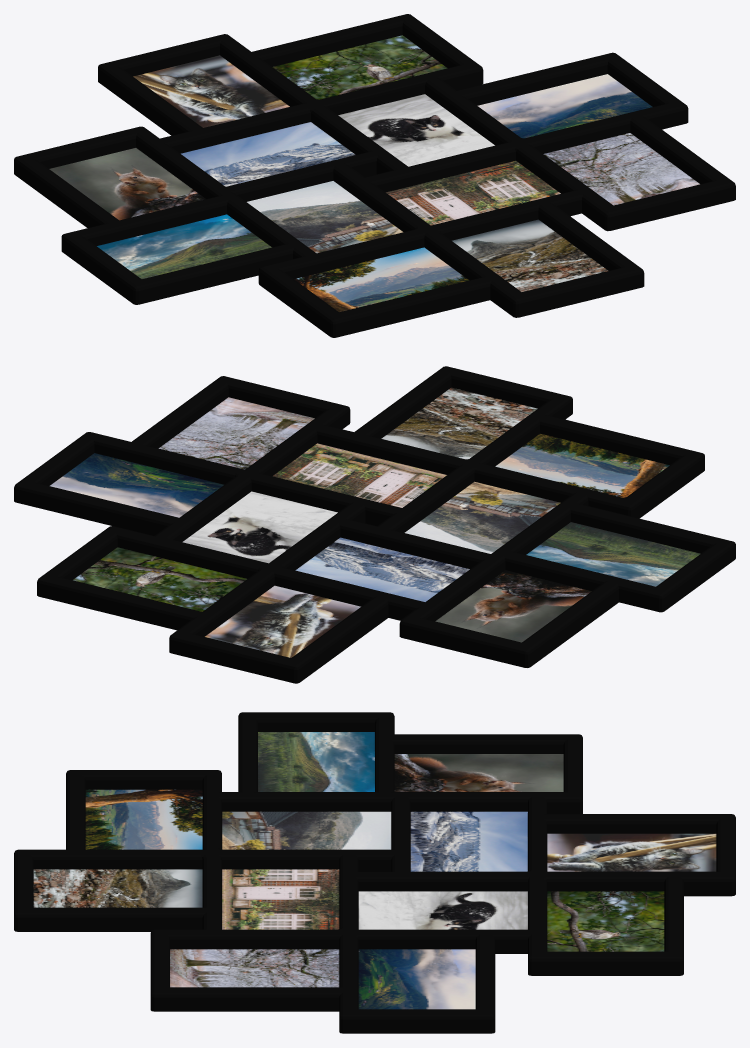
Rendered from collage_wall.glb.
The picture shows the model from 3 angles, top to bottom: view 1: azimuth 30°, elevation 25°; view 2: azimuth 150°, elevation 25°; view 3: azimuth 270°, elevation 25°; orthographic projection. The views are drawn at different scales.
Parts seen in each view (by area): view 1: frame_1, photos_3; view 2: frame_1, photos_3; view 3: photos_3, frame_1.
Boxes of the visible parts, x1,y1,x2,y2 form: frame_1: (14, 14, 735, 337); photos_3: (49, 35, 699, 312); frame_1: (14, 366, 735, 683); photos_3: (50, 387, 700, 657); photos_3: (33, 732, 716, 1009); frame_1: (14, 712, 735, 1033).
Bounding box in the file's own units: 0.555 × 0.015 × 0.555.
Materials: 4 (1 with a texture image).
